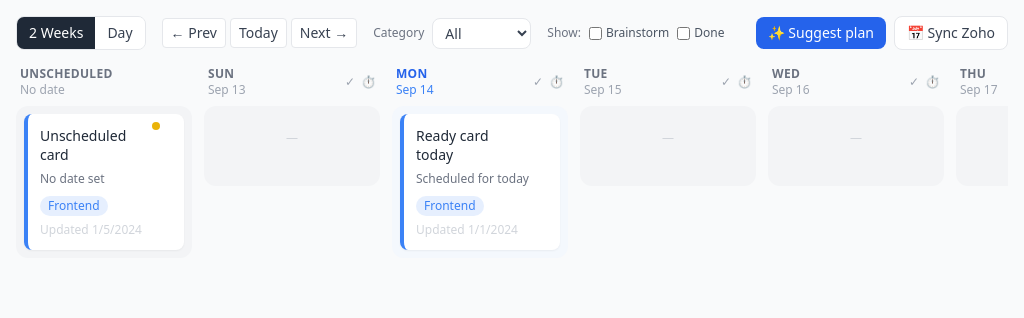
Test case: CalendarView › shows a notice when there is no plannable work
Click the button "✨ Suggest plan" at (821, 33), box [756, 17, 886, 49]
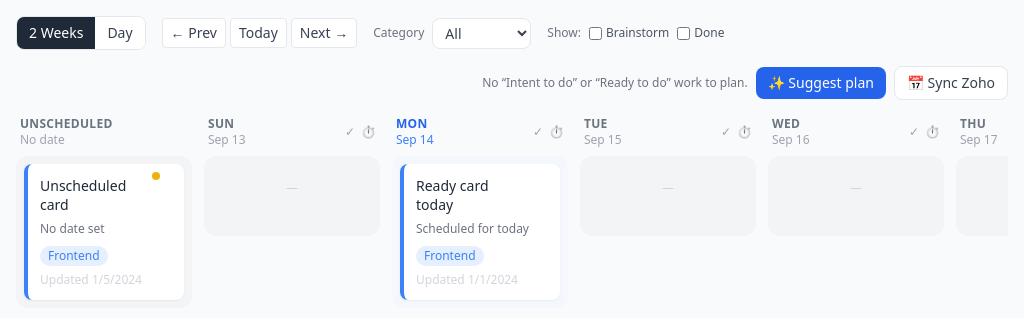
expect the message reads "No “Intent to do” or “Ready to do” work to plan.": met, box [482, 74, 748, 91]
